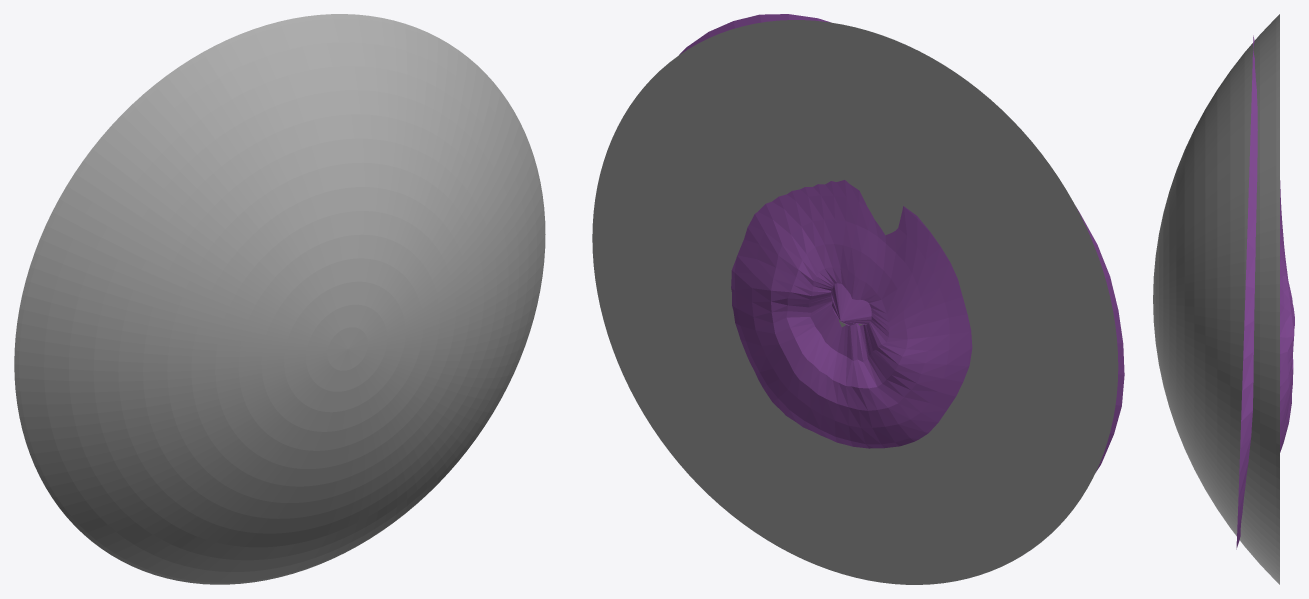
File: G09_A3_ALIGNED_GT.glb
3 views of the same model, side by side, from view 1: azimuth 30°, elevation 25°; view 2: azimuth 150°, elevation 25°; view 3: azimuth 270°, elevation 25° (orthographic). The views are drawn at different scales.
Visible parts, largest first — view 1: Independent_GT; view 2: Independent_GT, A3; view 3: Independent_GT, A3.
Boxes of the visible parts, bbox=[...] form: Independent_GT: bbox=[14, 14, 545, 584]; Independent_GT: bbox=[592, 20, 1118, 584]; A3: bbox=[679, 14, 1124, 471]; Independent_GT: bbox=[1153, 14, 1279, 584]; A3: bbox=[1236, 35, 1294, 549].
Bounding box in the file's own units: 0.0045 × 0.0045 × 0.00112.
